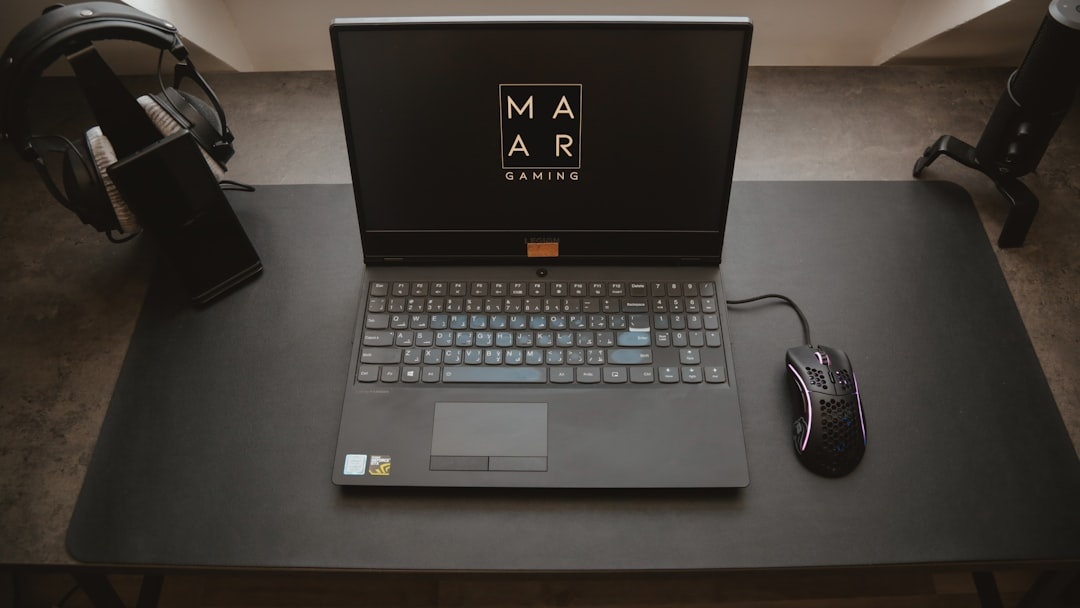laptop: (305, 1, 781, 531)
